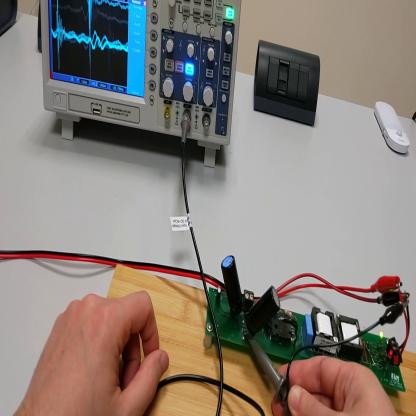hand: (15, 286, 171, 415), (272, 356, 397, 416)
high voltage board: (207, 253, 409, 391)
oscilloscope: (42, 2, 242, 169)
oscilloscope probe tip: (244, 327, 291, 405)
socket: (2, 3, 19, 37), (37, 3, 43, 54)
working area: (91, 260, 416, 416)
